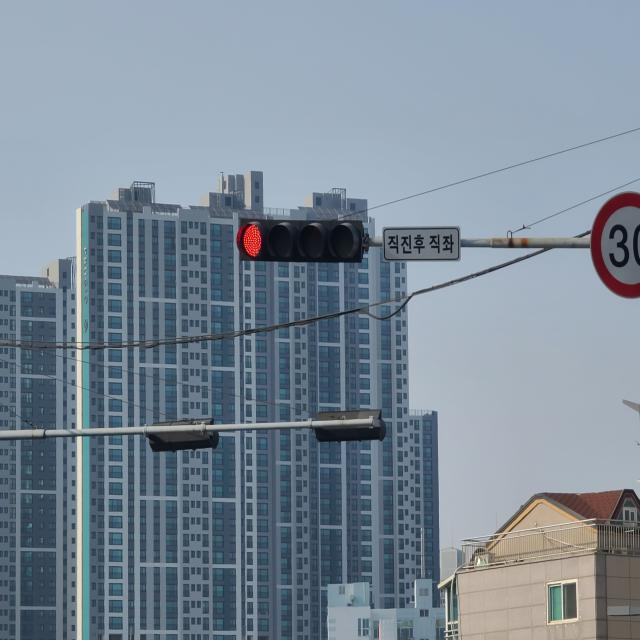Red Light: (242, 221, 264, 257)
